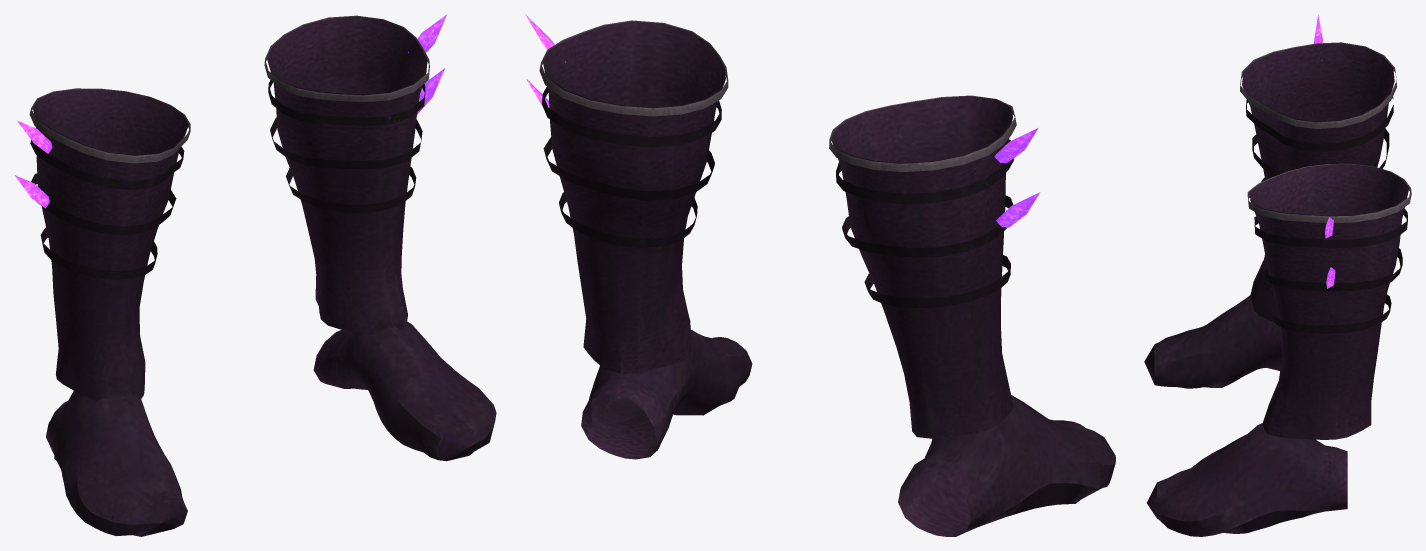
File: Botas_de_Couro_nivel75.glb
3 renders of one model, left to right at view 1: azimuth 30°, elevation 25°; view 2: azimuth 150°, elevation 25°; view 3: azimuth 270°, elevation 25°, orthographic. The views are drawn at different scales.
Parts seen in each view (by area): view 1: botas_de_couro_nivel75; view 2: botas_de_couro_nivel75; view 3: botas_de_couro_nivel75.
Boxes of the visible parts, x1,y1,x2,y2 form: botas_de_couro_nivel75: [15, 14, 496, 536]; botas_de_couro_nivel75: [525, 14, 1115, 536]; botas_de_couro_nivel75: [1144, 15, 1411, 536].
Size of the model in its own units: 0.5424 by 0.4273 by 0.3068.
1 material, 1 textured.
